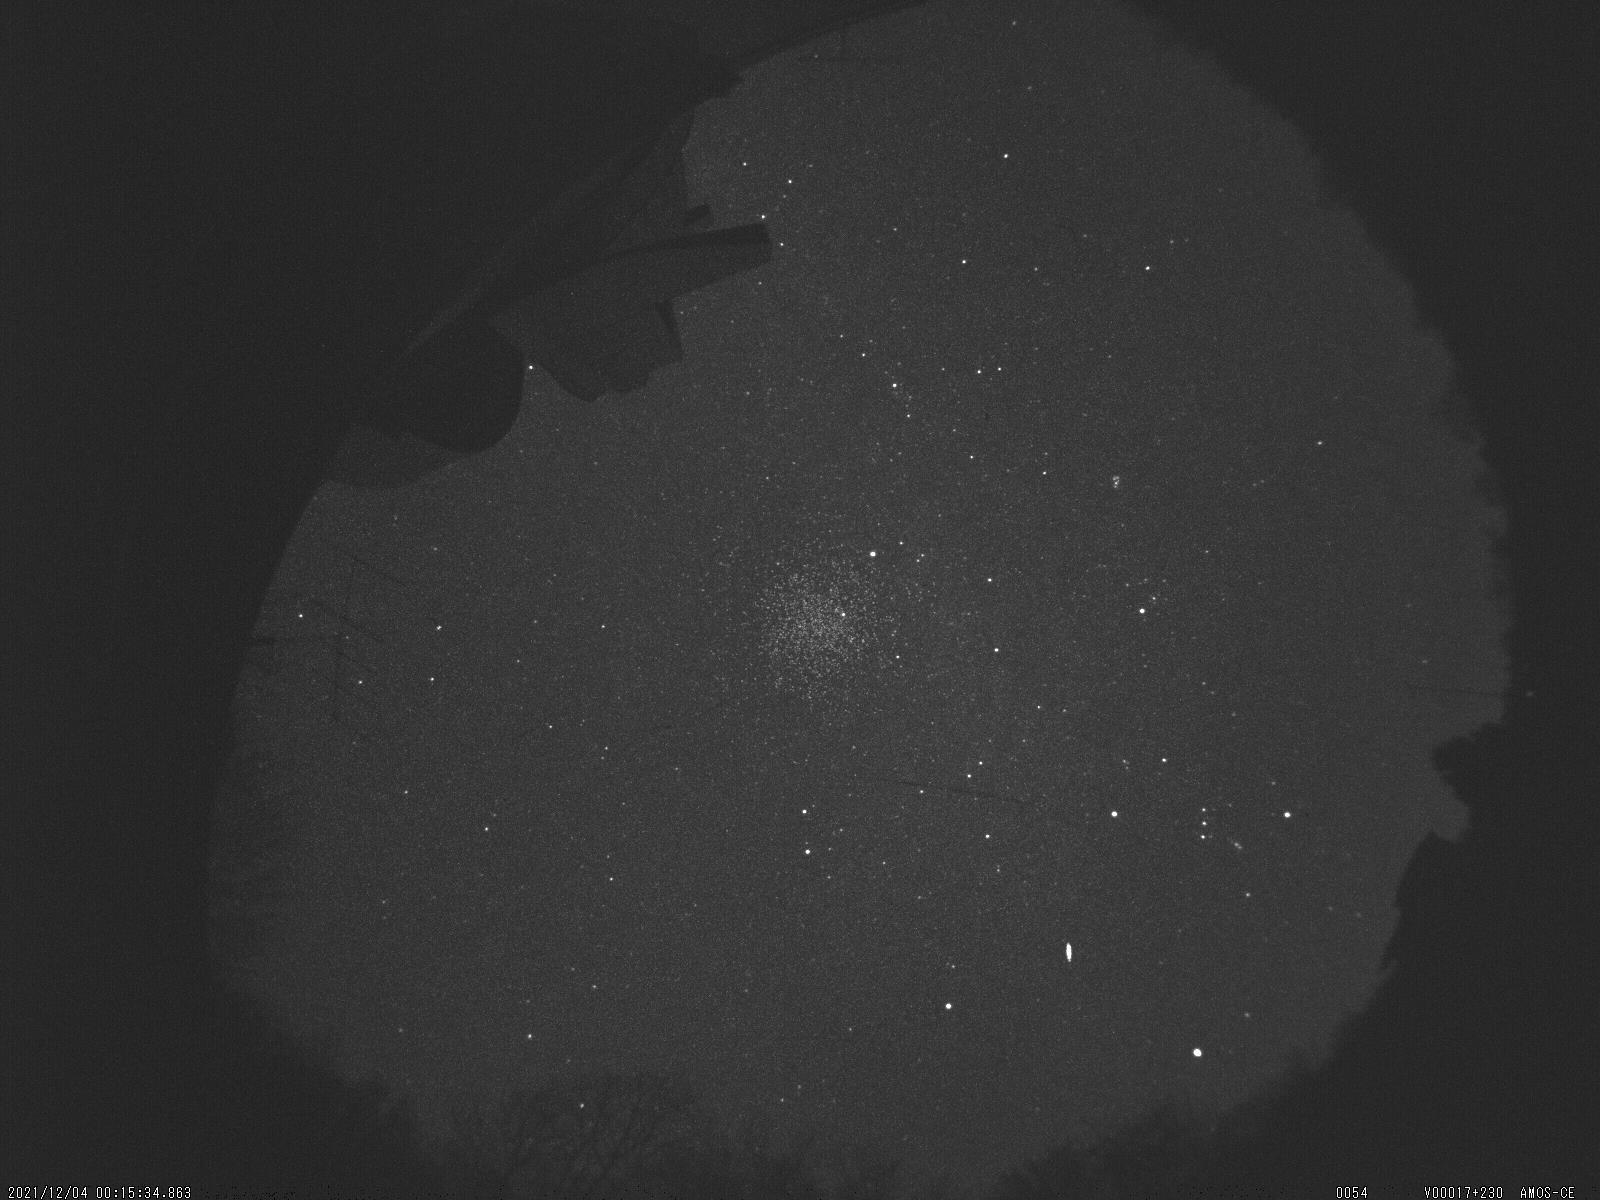Meteor: (1055, 927, 1082, 982)
